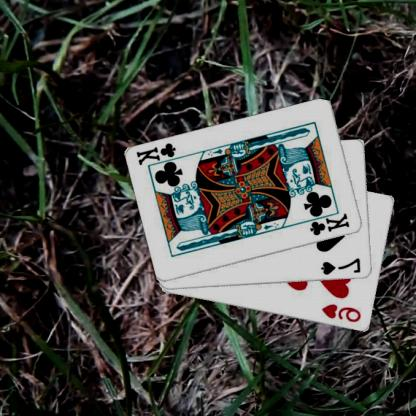7S: (320, 256, 364, 276)
9H: (321, 301, 364, 324)
KC: (136, 140, 186, 170), (303, 209, 353, 236)
